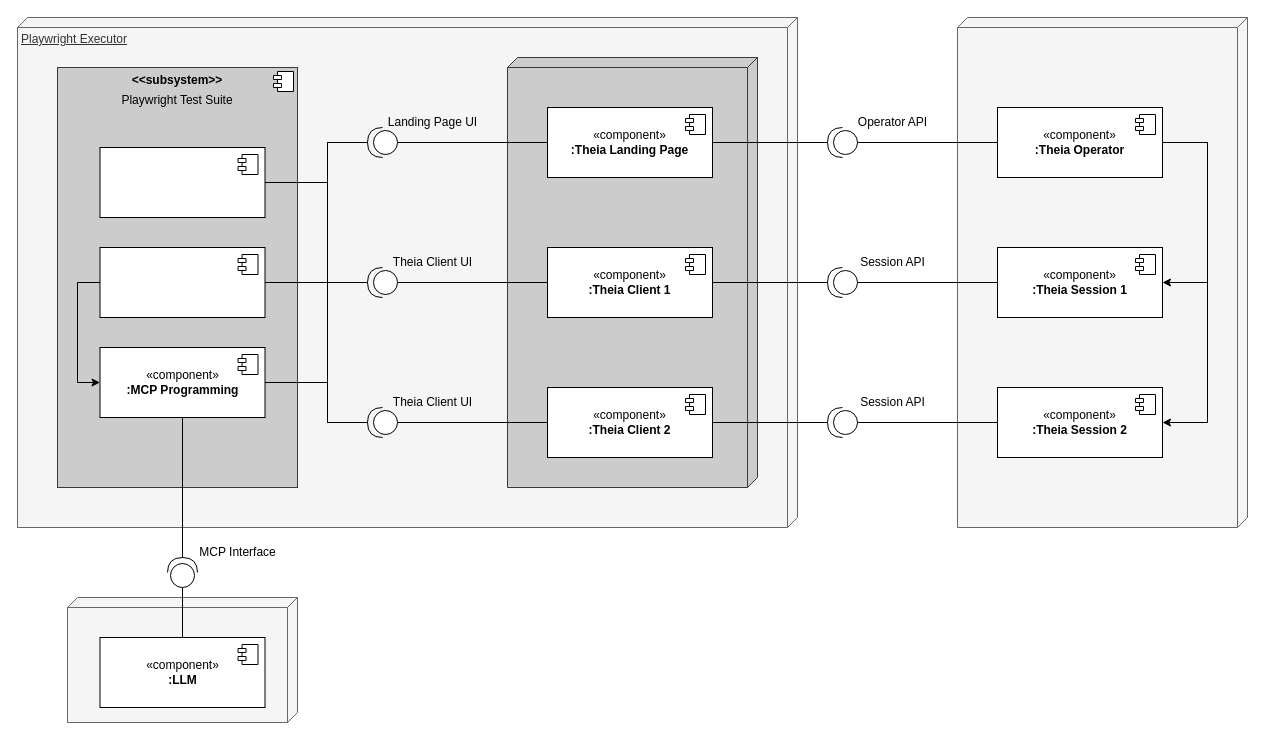
Some shapes in this 1265 by 740 pixel diagram are drawn without their labels. The shapes that lost their labels are listed below. From the top down, each one's box as (x1, y1, x2, y2) in pixels, then its label:
(99, 146, 265, 218): «component» :Functional Tests
(99, 246, 265, 318): «component» :Load Tests
(506, 56, 758, 488): Headless Browser Environment
(956, 16, 1248, 528): K8s Cluster
(66, 596, 298, 722): GPU Cluster
